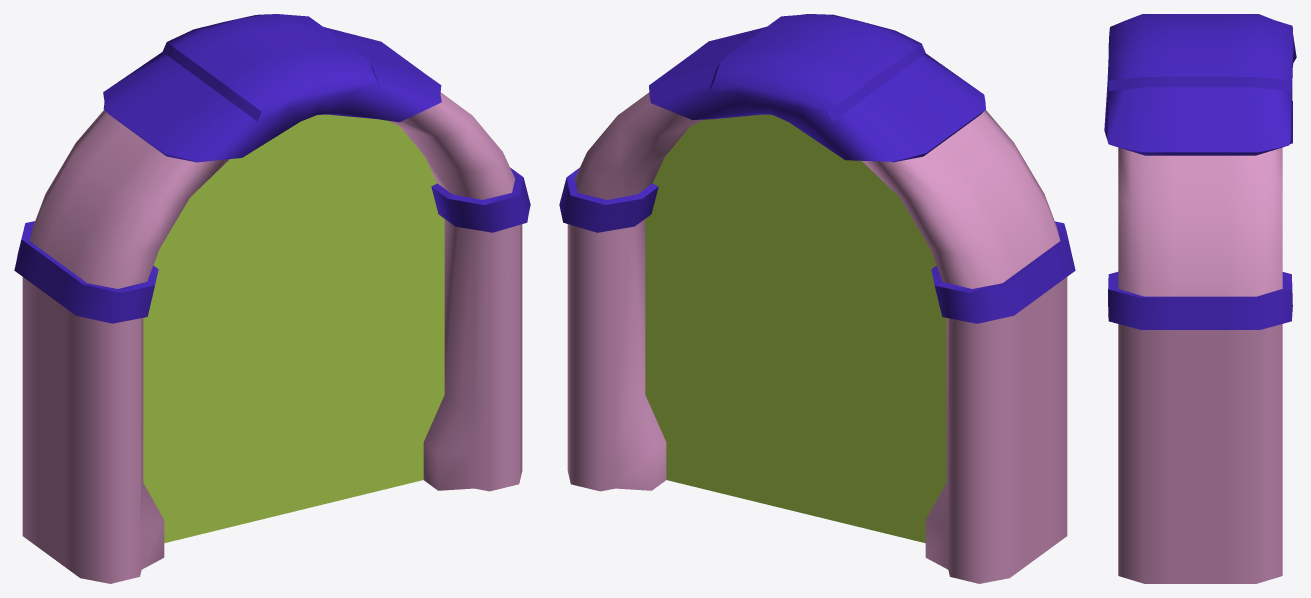
Rendered from front_door.FBX.
3 renders of one model, left to right at view 1: azimuth 30°, elevation 25°; view 2: azimuth 150°, elevation 25°; view 3: azimuth 270°, elevation 25°, orthographic. The views are drawn at different scales.
Visible parts, largest first — view 1: Box001; view 2: Box001; view 3: Box001.
Part boxes in pixels (box(x1,y1,x2,y2)): Box001: box(14, 14, 530, 583); Box001: box(559, 14, 1075, 583); Box001: box(1104, 14, 1296, 583).
Bounding box in the file's own units: 21593 × 20990 × 8172.
